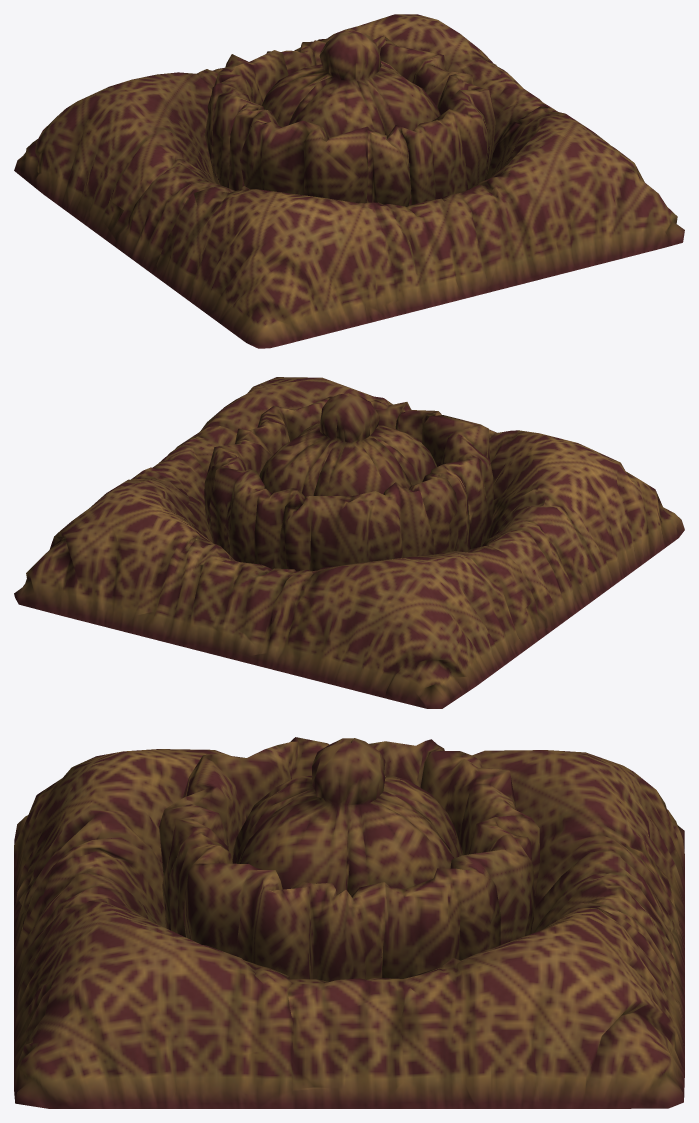
File: SM_CurtainFlower.fbx
3 renders of one model, top to bottom at view 1: azimuth 30°, elevation 25°; view 2: azimuth 150°, elevation 25°; view 3: azimuth 270°, elevation 25°, orthographic. The views are drawn at different scales.
Parts seen in each view (by area): view 1: SM_CurtainFlower_LOD0; view 2: SM_CurtainFlower_LOD0; view 3: SM_CurtainFlower_LOD0.
Part boxes in pixels (bbox=[...]): SM_CurtainFlower_LOD0: bbox=[14, 14, 684, 348]; SM_CurtainFlower_LOD0: bbox=[14, 377, 684, 708]; SM_CurtainFlower_LOD0: bbox=[14, 737, 684, 1108].
Bounding box in the file's own units: 193 × 192 × 73.78.
Materials: 1 (1 with a texture image).
